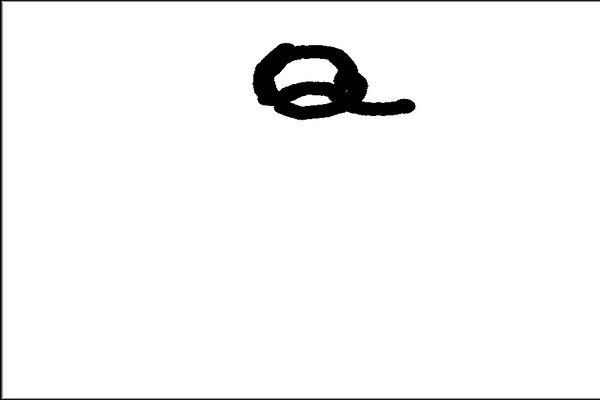Q: (249, 35, 415, 131)
